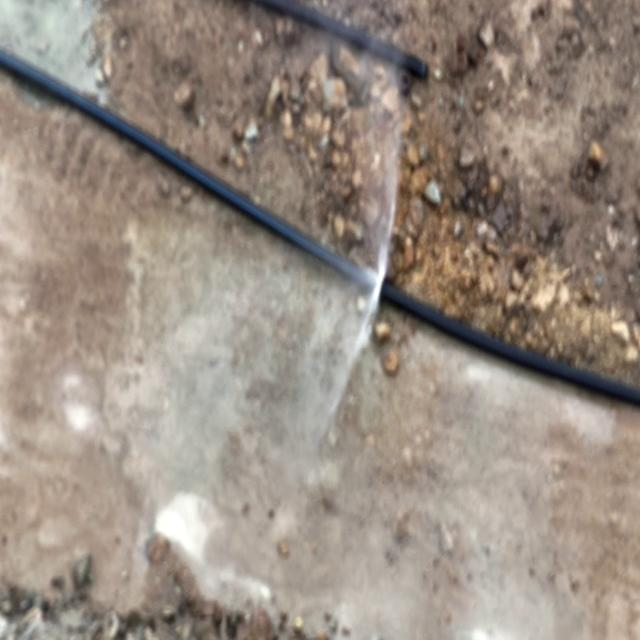leak: (319, 85, 404, 464)
